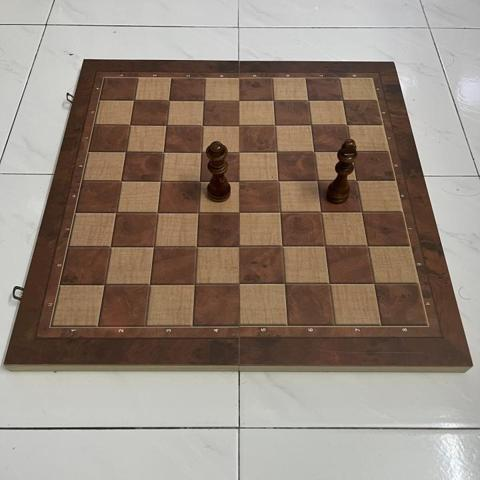xcorner: (339, 117, 355, 133), (303, 117, 319, 133), (267, 117, 283, 133), (158, 118, 174, 134), (231, 144, 247, 160), (193, 144, 209, 160), (155, 144, 171, 160), (309, 172, 325, 188), (231, 173, 247, 189), (152, 173, 168, 189), (354, 203, 370, 219), (272, 204, 288, 220), (231, 204, 247, 220), (190, 204, 206, 220), (274, 238, 290, 254), (231, 238, 247, 254), (188, 238, 204, 254), (102, 239, 118, 255), (321, 275, 337, 291), (276, 275, 292, 291), (231, 275, 247, 291), (186, 276, 202, 292), (141, 276, 157, 292), (96, 276, 112, 292), (335, 93, 351, 108), (300, 93, 316, 108), (266, 93, 281, 109), (231, 93, 246, 109), (196, 93, 211, 109), (161, 93, 176, 109), (126, 93, 141, 109), (194, 118, 210, 133), (122, 118, 137, 134), (344, 144, 360, 159), (306, 144, 322, 159), (269, 144, 284, 160), (117, 145, 133, 160), (349, 172, 364, 188), (270, 173, 286, 188), (192, 173, 207, 189), (113, 173, 128, 189), (313, 204, 329, 219), (149, 205, 165, 220), (360, 237, 375, 253), (145, 239, 161, 254), (231, 118, 246, 133), (108, 205, 123, 220), (317, 238, 332, 253), (366, 275, 381, 290)
